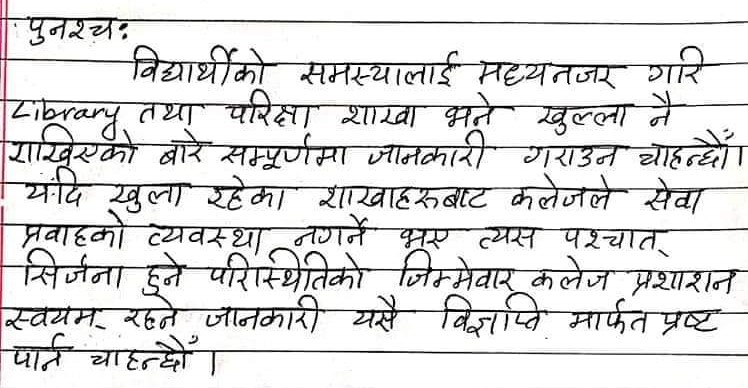text: (293, 43, 465, 91), (127, 42, 278, 88), (210, 252, 375, 292), (315, 180, 494, 212), (6, 125, 147, 165), (435, 292, 552, 339), (364, 130, 499, 169), (86, 333, 201, 377), (474, 57, 627, 90), (202, 294, 330, 333), (392, 253, 522, 291), (220, 133, 351, 170), (15, 211, 132, 252), (20, 247, 129, 291), (636, 128, 740, 174), (510, 175, 629, 212), (143, 217, 267, 252), (21, 9, 118, 51), (221, 91, 324, 130), (557, 224, 675, 258), (626, 264, 747, 297), (203, 173, 298, 212), (519, 141, 628, 174), (564, 295, 649, 337), (537, 100, 636, 136), (641, 43, 719, 87), (2, 301, 114, 331), (16, 164, 91, 207), (530, 254, 614, 291), (107, 175, 193, 211), (291, 213, 374, 248), (350, 294, 415, 336), (8, 334, 73, 376), (334, 98, 428, 127), (640, 175, 707, 215), (439, 92, 514, 127), (474, 221, 546, 256), (656, 304, 727, 339), (156, 126, 213, 169), (120, 296, 185, 332), (133, 96, 205, 127), (140, 251, 189, 296), (642, 89, 687, 130), (395, 225, 464, 251)
